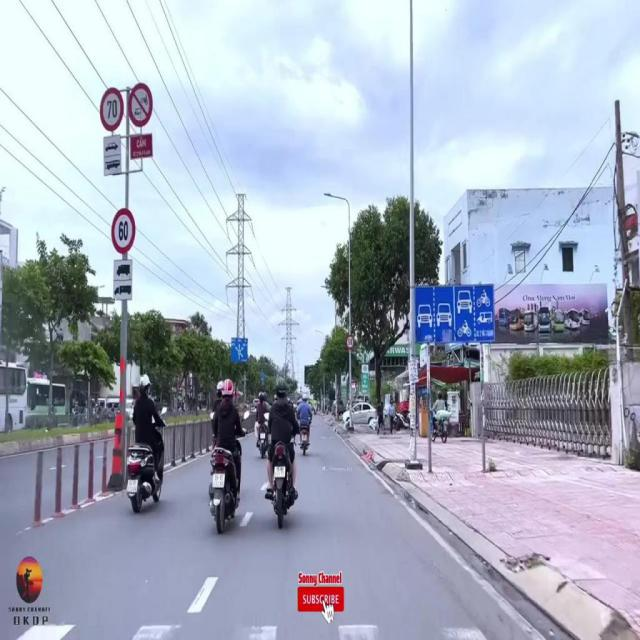cam_xe_2_banh_va_xe_3_banh_co_dong_co: (128, 82, 154, 129)
khac: (101, 86, 125, 135), (103, 134, 121, 158), (231, 338, 248, 362), (113, 280, 133, 300), (103, 157, 122, 178), (113, 261, 133, 280)
lan_duong_cho_tung_xe_theo_vach_ke_duong: (415, 285, 495, 345)
toc_do_toi_da_50: (346, 334, 355, 349)
toc_do_toi_da_60: (111, 208, 137, 254)
